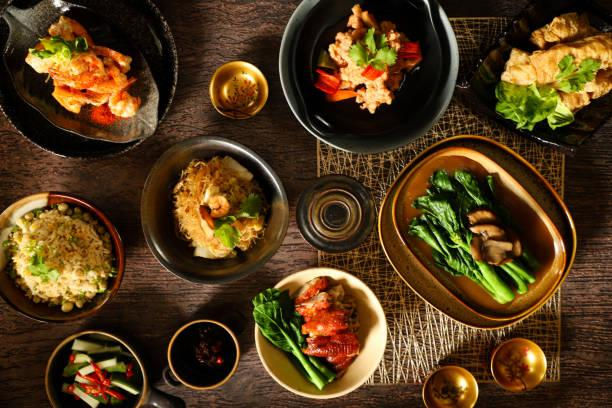Braised Crucian Carp: (377, 135, 570, 328), (1, 1, 175, 158), (278, 1, 454, 156), (460, 1, 609, 154), (140, 137, 285, 283), (255, 268, 386, 400), (2, 192, 126, 322), (43, 328, 156, 406)
